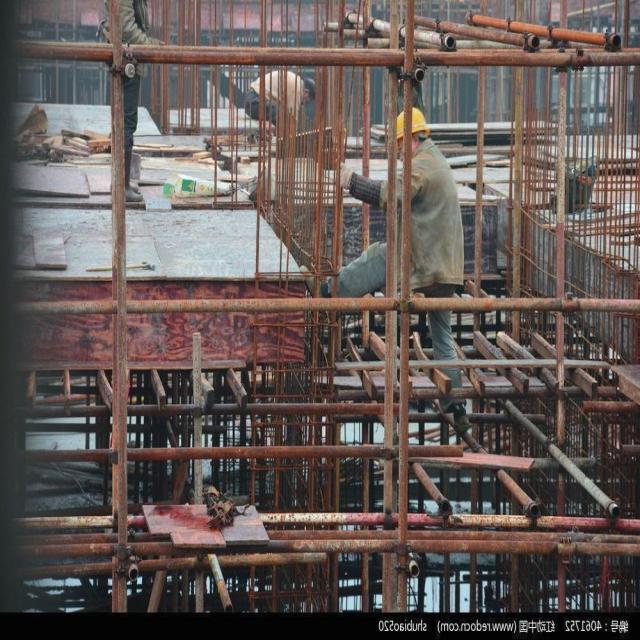hand_glove: (329, 163, 363, 199)
head_helmet: (393, 106, 428, 138)
person: (326, 110, 464, 390), (233, 60, 320, 133)
shoes: (448, 397, 470, 432)
